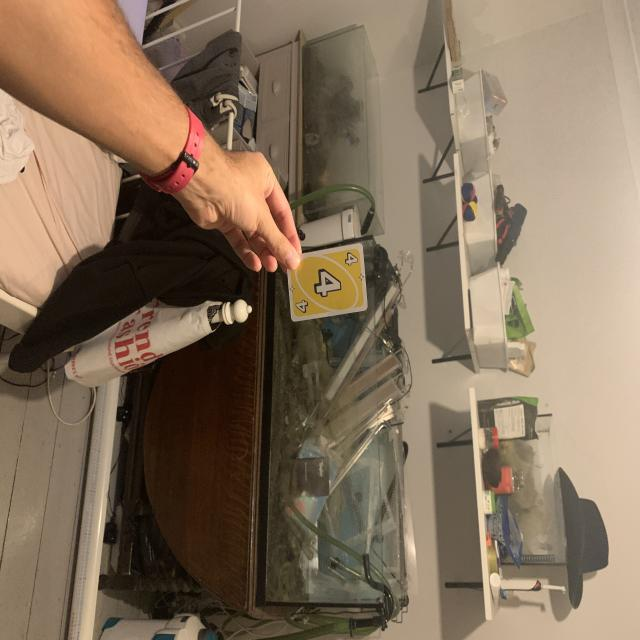lyellow-4: (340, 249, 360, 270)
